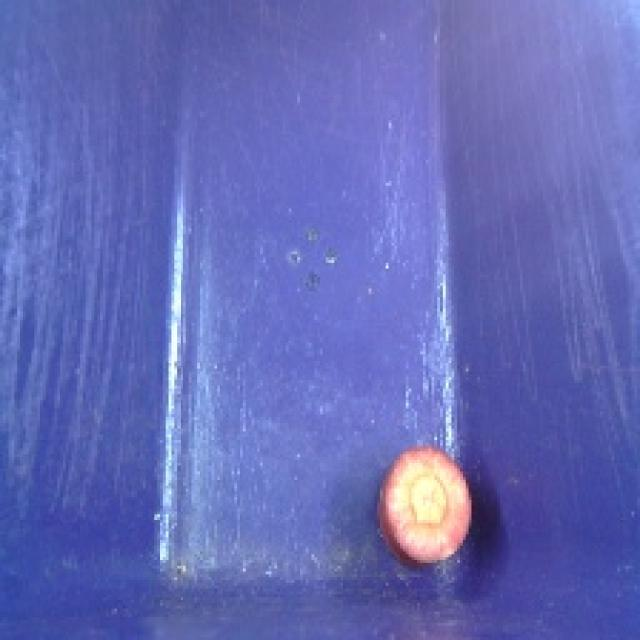carrots: (374, 442, 480, 575)
